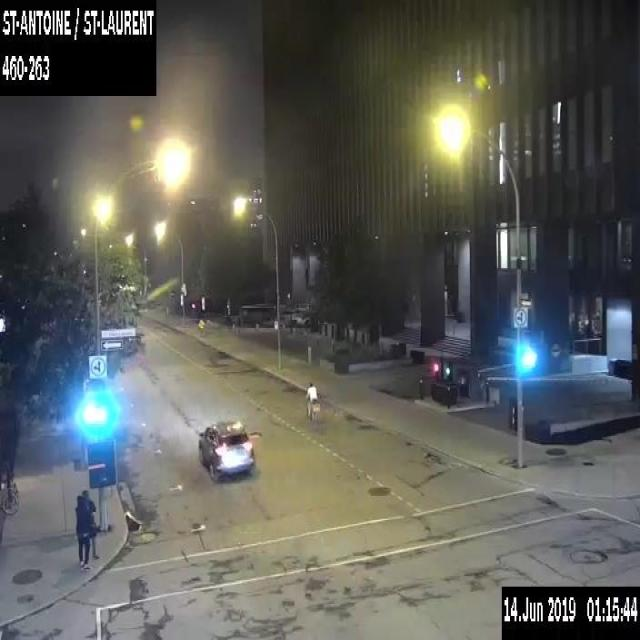cyclist: (305, 381, 320, 424)
pedestrian: (82, 488, 99, 558), (75, 494, 90, 567)
vehicle: (198, 419, 255, 480), (288, 311, 310, 327)
